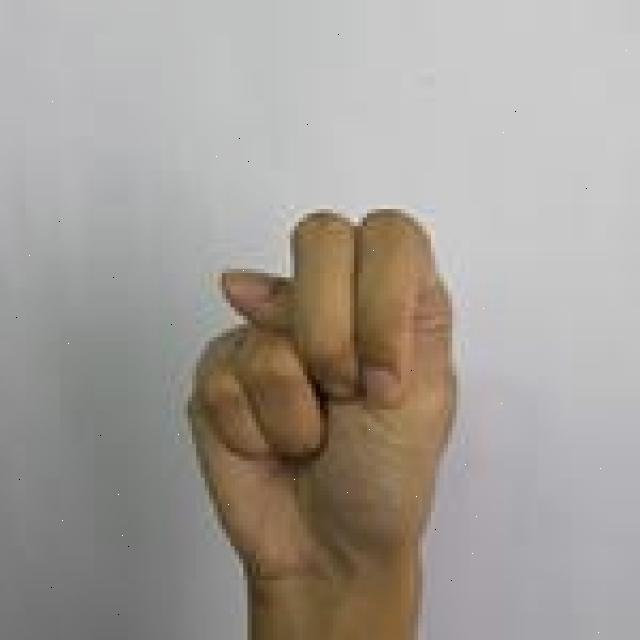N: (175, 202, 471, 640)
